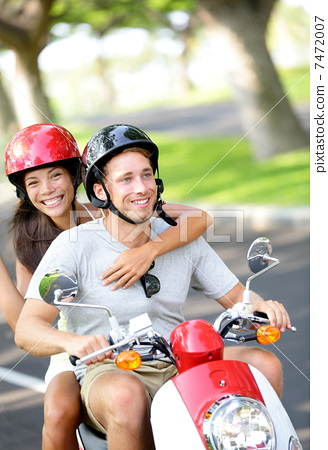helmet: (76, 126, 161, 167), (1, 129, 81, 168)
